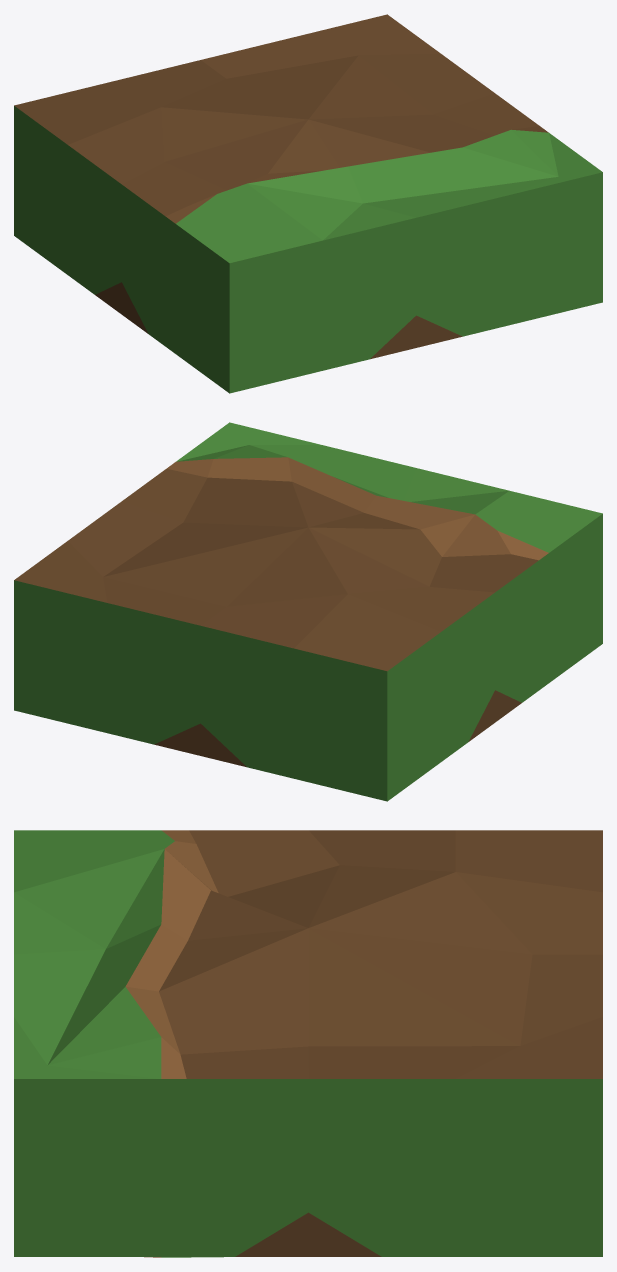
The model's file is grass_dirt_edge_1.fbx.
The picture shows the model from 3 angles, top to bottom: view 1: azimuth 30°, elevation 25°; view 2: azimuth 150°, elevation 25°; view 3: azimuth 270°, elevation 25°; orthographic projection. The views are drawn at different scales.
Parts seen in each view (by area): view 1: Dirt_Grass_Edge_1; view 2: Dirt_Grass_Edge_1; view 3: Dirt_Grass_Edge_1.
Boxes of the visible parts, left/top/right/bottom form: Dirt_Grass_Edge_1: left=14, top=14, right=602, bottom=393; Dirt_Grass_Edge_1: left=14, top=422, right=602, bottom=801; Dirt_Grass_Edge_1: left=14, top=830, right=602, bottom=1257.
Size of the model in its own units: 300 by 135 by 300.
